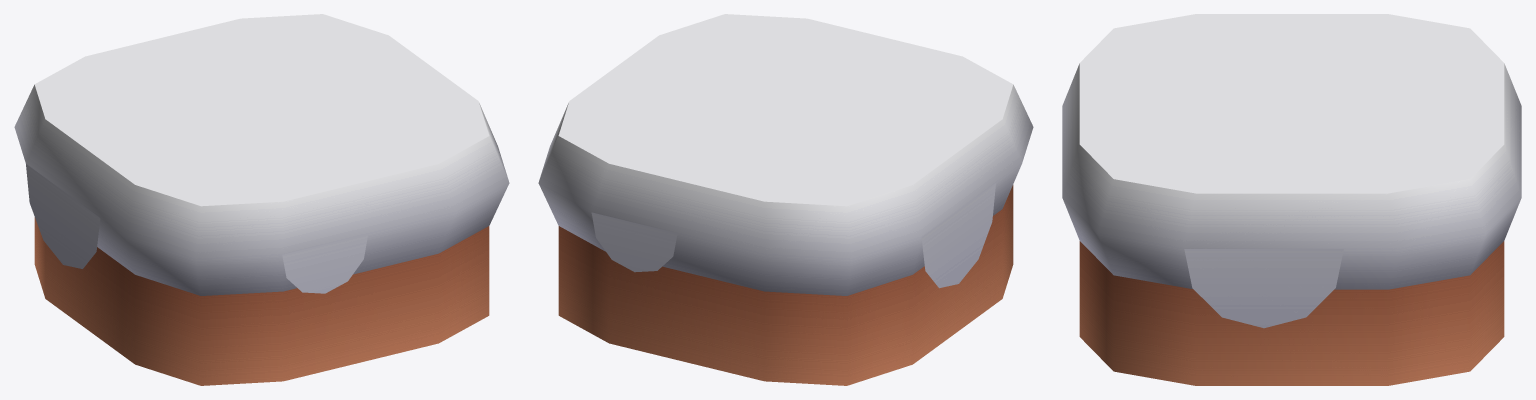
File: block-snow-overhang-low.glb
The picture shows the model from 3 angles, left to right: view 1: azimuth 30°, elevation 25°; view 2: azimuth 150°, elevation 25°; view 3: azimuth 270°, elevation 25°; orthographic projection. The views are drawn at different scales.
Parts seen in each view (by area): view 1: block-snow-overhang-low; view 2: block-snow-overhang-low; view 3: block-snow-overhang-low.
Boxes of the visible parts, x1,y1,x2,y2 form: block-snow-overhang-low: (14,14,509,385); block-snow-overhang-low: (538,14,1033,385); block-snow-overhang-low: (1062,14,1521,385).
Bounding box in the file's own units: 1.08 × 0.5 × 1.08.
1 material, 1 textured.
